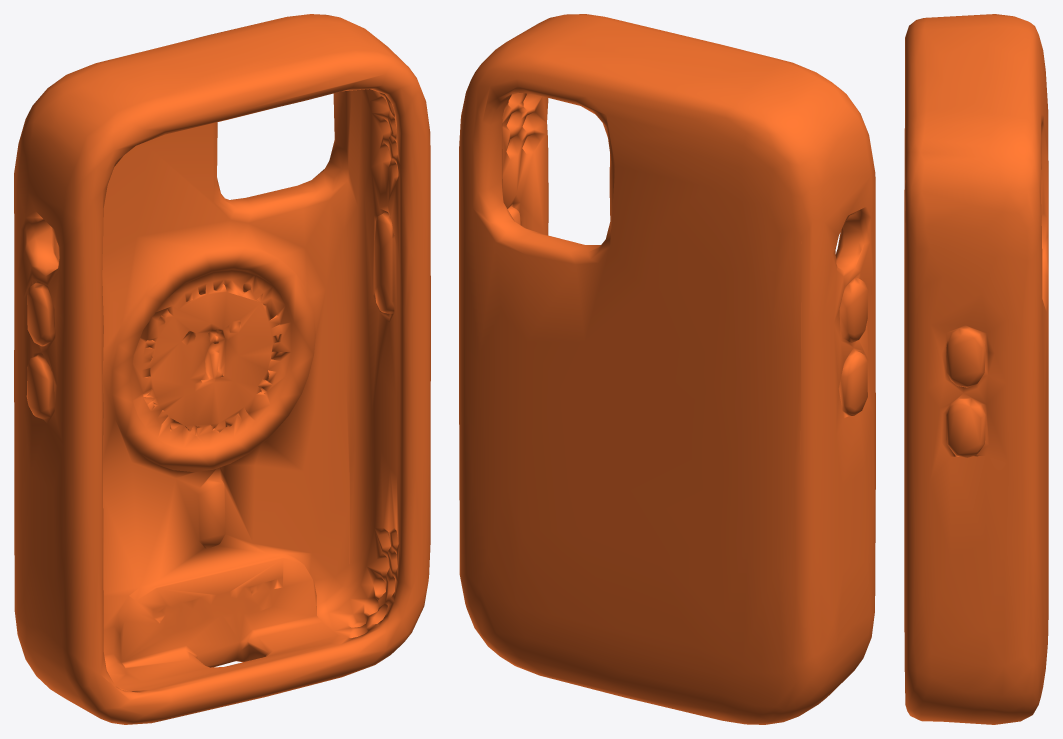
File: PhoneCase.glb
3 views of the same model, side by side, from view 1: azimuth 30°, elevation 25°; view 2: azimuth 150°, elevation 25°; view 3: azimuth 270°, elevation 25° (orthographic). The views are drawn at different scales.
Visible parts, largest first — view 1: 手機殼; view 2: 手機殼; view 3: 手機殼.
Part boxes in pixels (x1,y1,x2,y2): 手機殼: (14, 14, 430, 724); 手機殼: (459, 14, 875, 724); 手機殼: (904, 14, 1048, 724).
Size of the model in its own units: 0.0318 by 0.05 by 0.0109.
